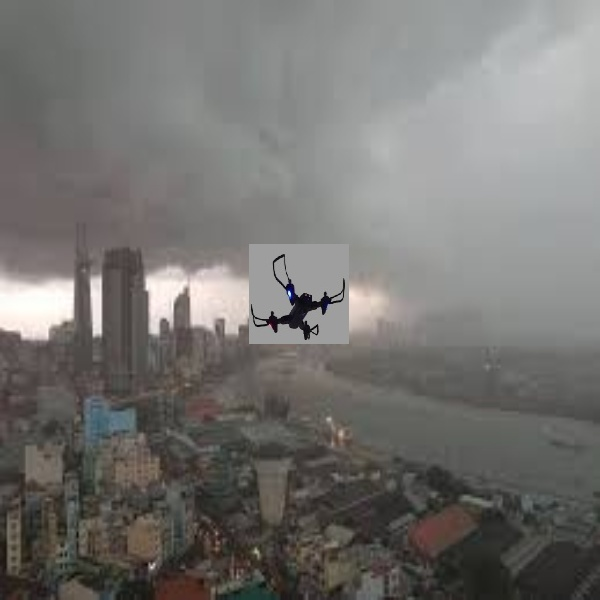drone: (250, 248, 351, 346)
